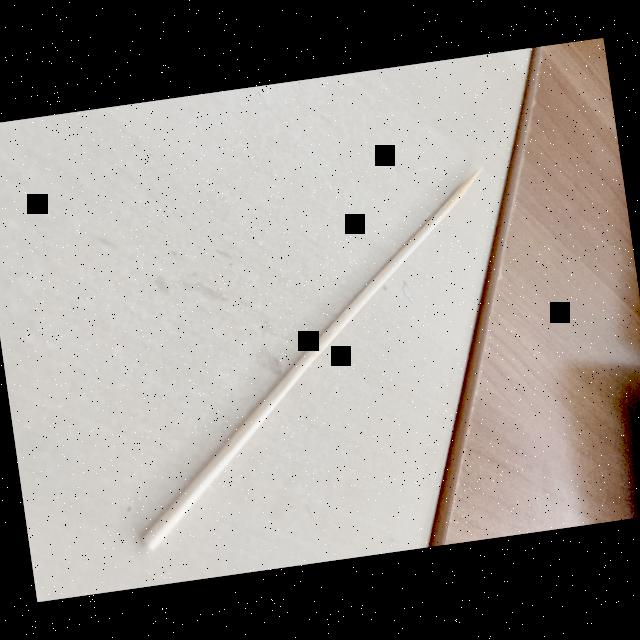stick: (84, 154, 532, 556)
